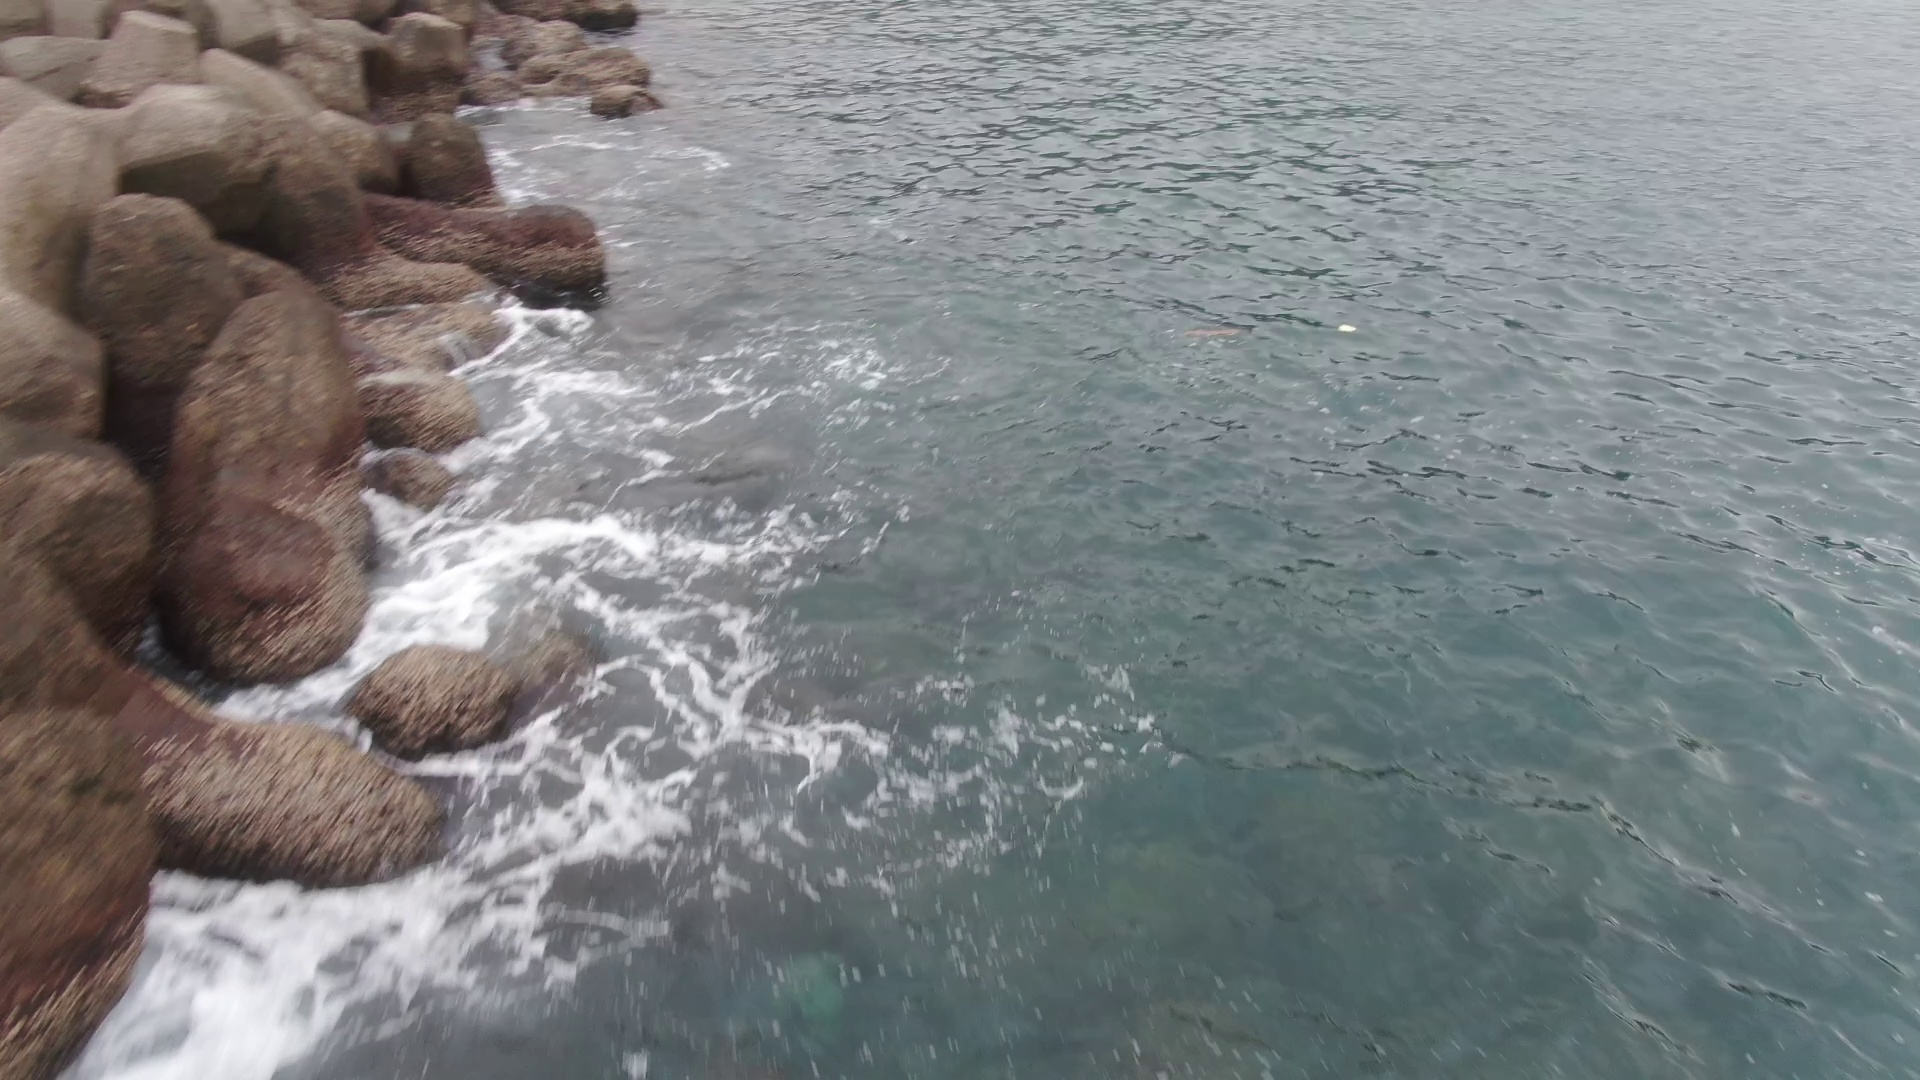garbage: (1182, 326, 1240, 338), (1337, 324, 1357, 334)
